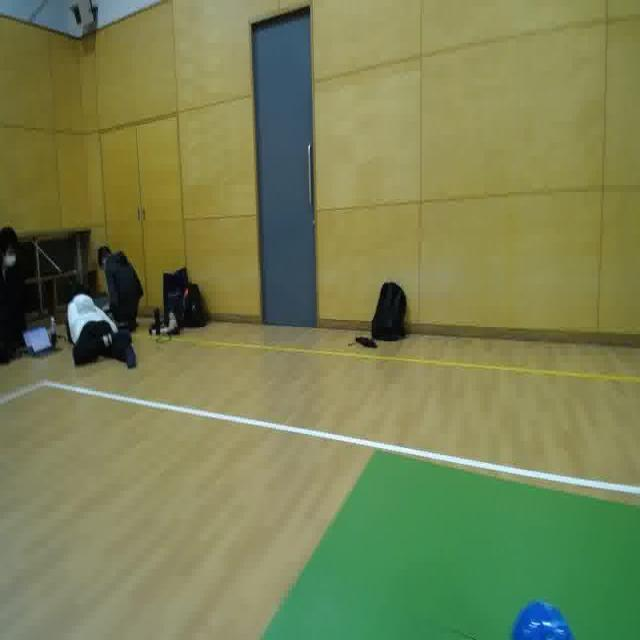blue_ball: (504, 591, 579, 640)
